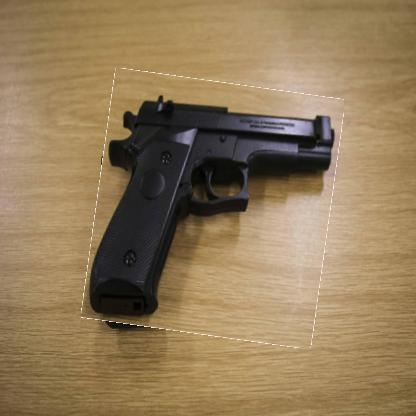gun: (89, 76, 337, 342)
